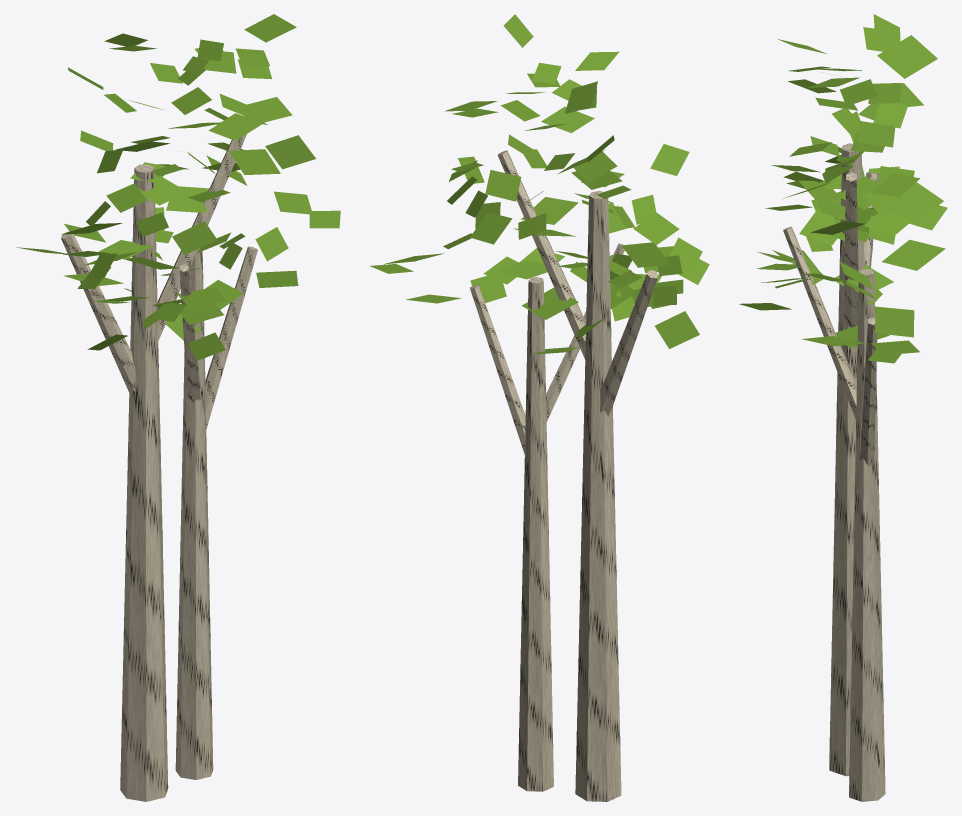
File: nodo-tree-birch-final-CqBKGLZL.glb
3 views of the same model, side by side, from view 1: azimuth 30°, elevation 25°; view 2: azimuth 150°, elevation 25°; view 3: azimuth 270°, elevation 25° (orthographic). The views are drawn at different scales.
Parts seen in each view (by area): view 1: nodo-tree-birch-final; view 2: nodo-tree-birch-final; view 3: nodo-tree-birch-final.
Part boxes in pixels (bbox=[...]): nodo-tree-birch-final: bbox=[16, 14, 340, 801]; nodo-tree-birch-final: bbox=[370, 14, 709, 801]; nodo-tree-birch-final: bbox=[739, 14, 947, 801].
Size of the model in its own units: 17.4 by 39.06 by 9.84.
2 materials, 2 textured.
